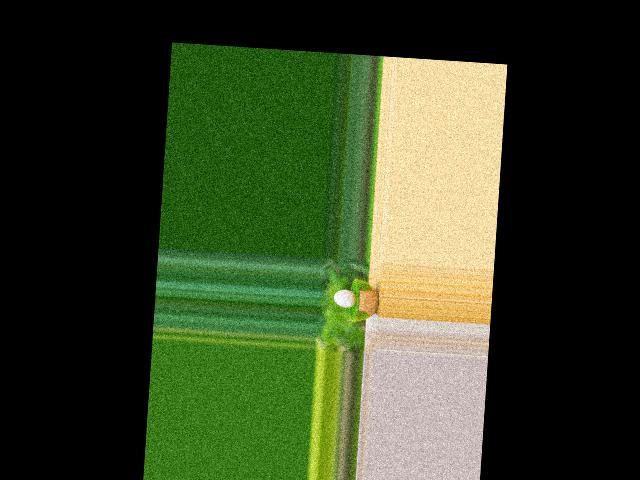egg: (333, 289, 357, 308)
